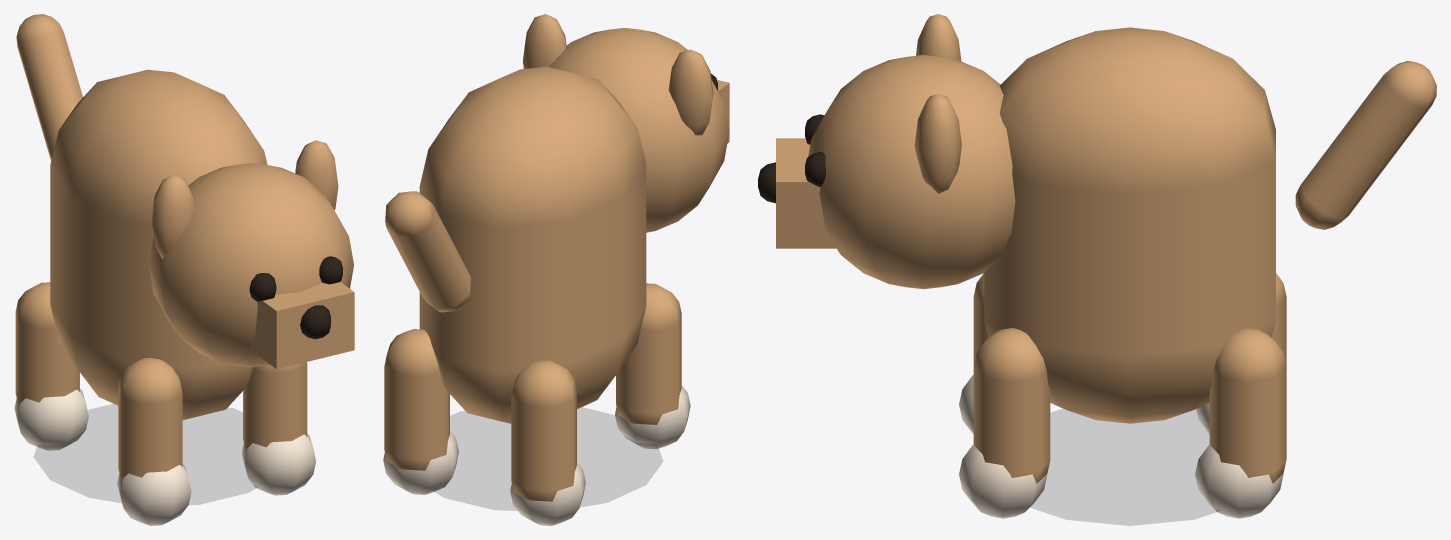
File: dog.glb
The picture shows the model from 3 angles, left to right: view 1: azimuth 30°, elevation 25°; view 2: azimuth 150°, elevation 25°; view 3: azimuth 270°, elevation 25°; orthographic projection. The views are drawn at different scales.
Visible parts, largest first — view 1: object 5, Head, Leg_1, object 8, Leg_0, Leg_3, Tail; view 2: object 5, Head, object 8, Leg_0, Leg_2, Leg_1, Tail; view 3: object 5, Head, object 8, Leg_3, Leg_2, Tail, Leg_1, Leg_0.
Part boxes in pixels (x1,y1,x2,y2): object 5: (50,69,267,419); Head: (148,140,354,369); Leg_1: (117,358,191,525); object 8: (34,404,257,504); Leg_0: (14,282,88,450); Leg_3: (242,362,315,495); Tail: (16,14,82,160); object 5: (419,66,646,423); Head: (522,14,729,232); object 8: (431,407,662,510); Leg_0: (510,360,585,525); Leg_2: (383,329,458,494); Leg_1: (615,283,690,449); Tail: (385,191,471,312); object 5: (984,27,1275,423); Head: (758,14,1015,289); object 8: (1030,409,1220,525); Leg_3: (959,328,1050,518); Leg_2: (1195,328,1286,518); Tail: (1295,61,1436,229); Leg_1: (959,273,988,434); Leg_0: (1196,273,1286,434).
Size of the model in its own units: 10 by 16.5 by 23.
